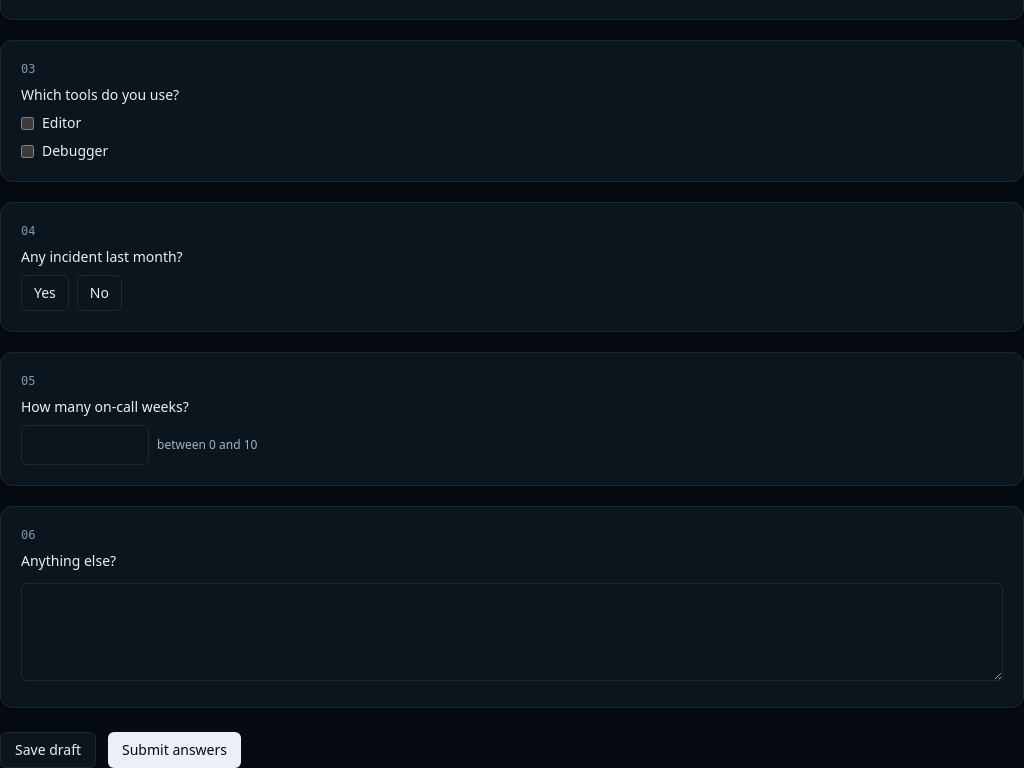
RespondPage › will not submit while a required question is open, and says which
The width and height of the screenshot is (1024, 768).
(page scrolled)
What coordinates should you click on to do the following:
click the button "Submit answers"
I would click on:
 (174, 750)
Its box is [108,732,241,767].
(page scrolled)
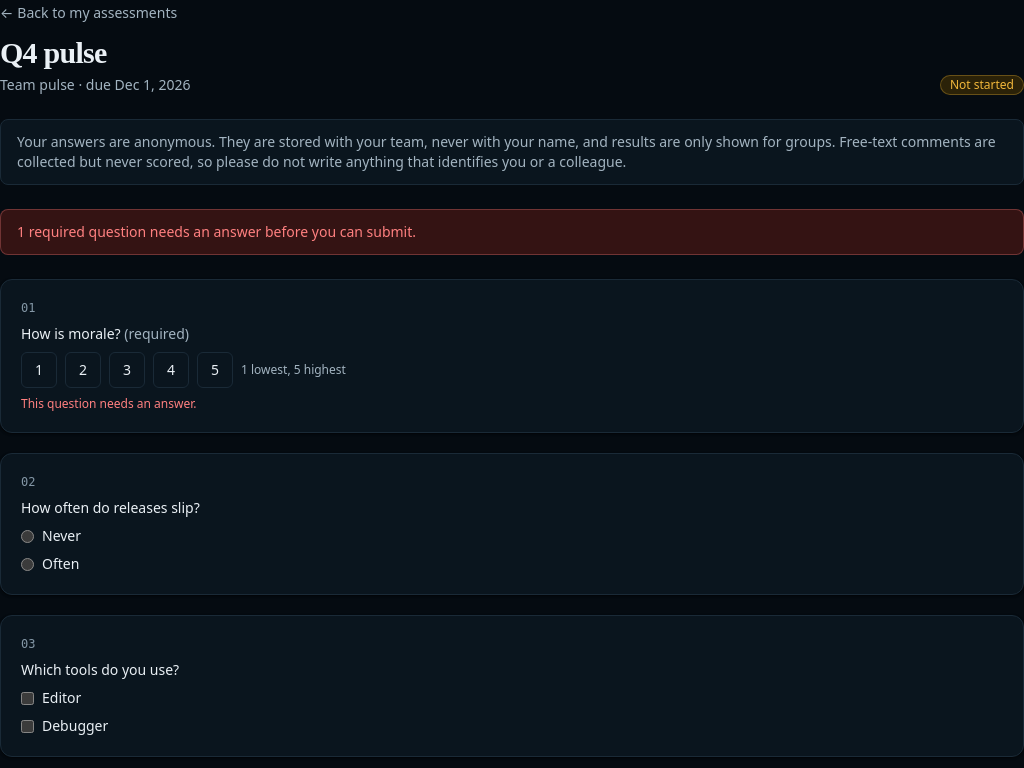
Check: the text "1 required question needs an answer before you can submit." is shown, box [0,209,1023,255]
Check: the text "This question needs an answer." is shown, box [21,395,196,412]
What coordinates should you click on to do the following:
click the radio button labelled "2"
I would click on:
 (83, 370)
Its box is [65,352,101,388].
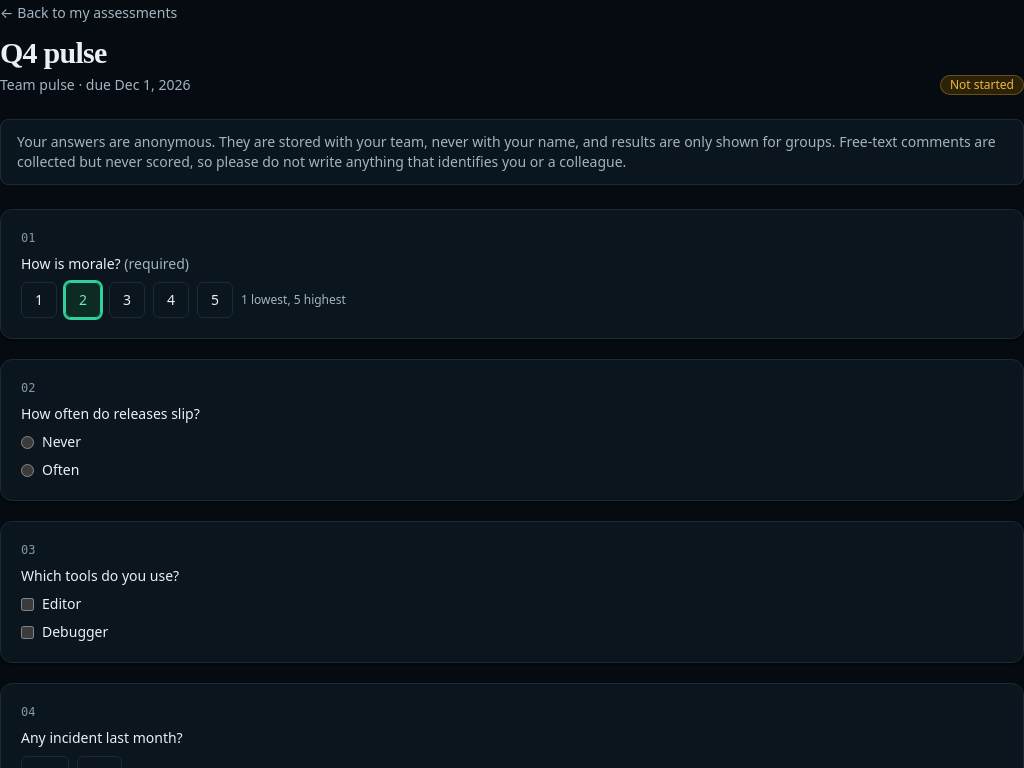
Check: the text "This question needs an answer." is gone
